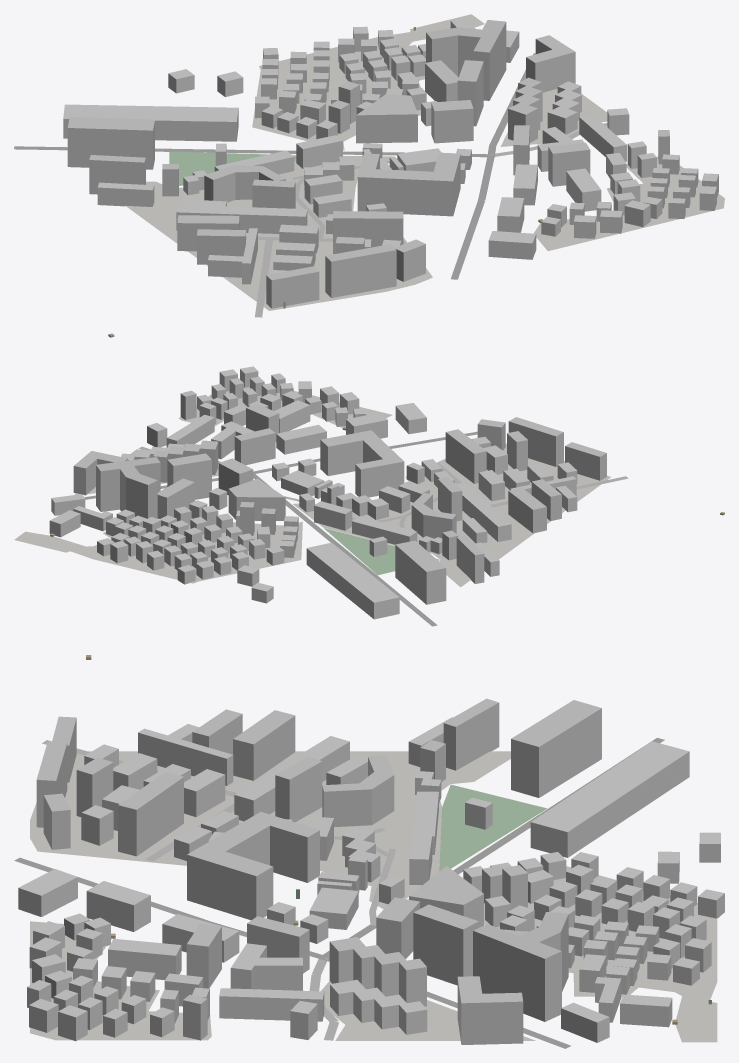
3 views of the same model, one above another, from view 1: azimuth 30°, elevation 25°; view 2: azimuth 150°, elevation 25°; view 3: azimuth 270°, elevation 25° (orthographic). The views are drawn at different scales.
Size of the model in its own units: 673 by 52.02 by 517.
